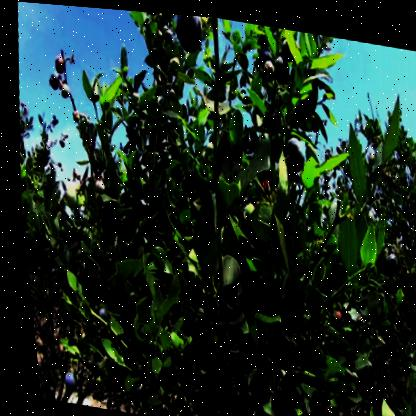intermediate: (51, 52, 70, 76), (262, 55, 276, 78), (89, 173, 105, 193)
mature: (172, 12, 208, 53), (280, 129, 307, 169), (271, 49, 291, 86), (44, 70, 62, 95), (56, 370, 72, 395), (258, 42, 274, 66)
young: (59, 180, 81, 214), (167, 52, 182, 75), (59, 80, 73, 104)
